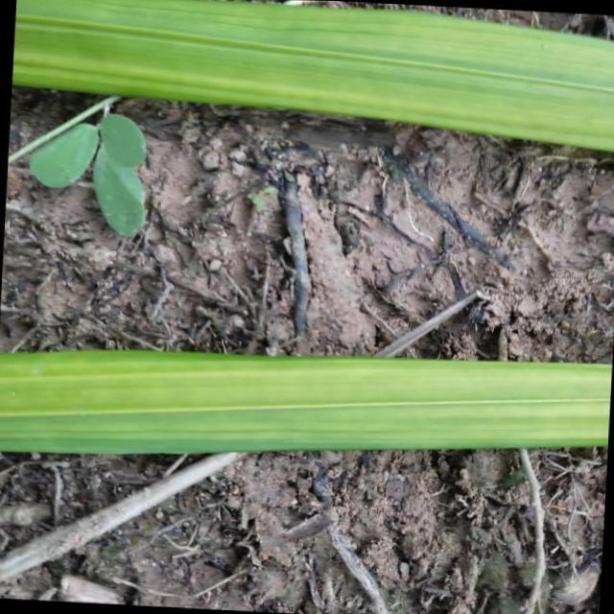nitrogen: (9, 0, 614, 153), (0, 350, 614, 456)
